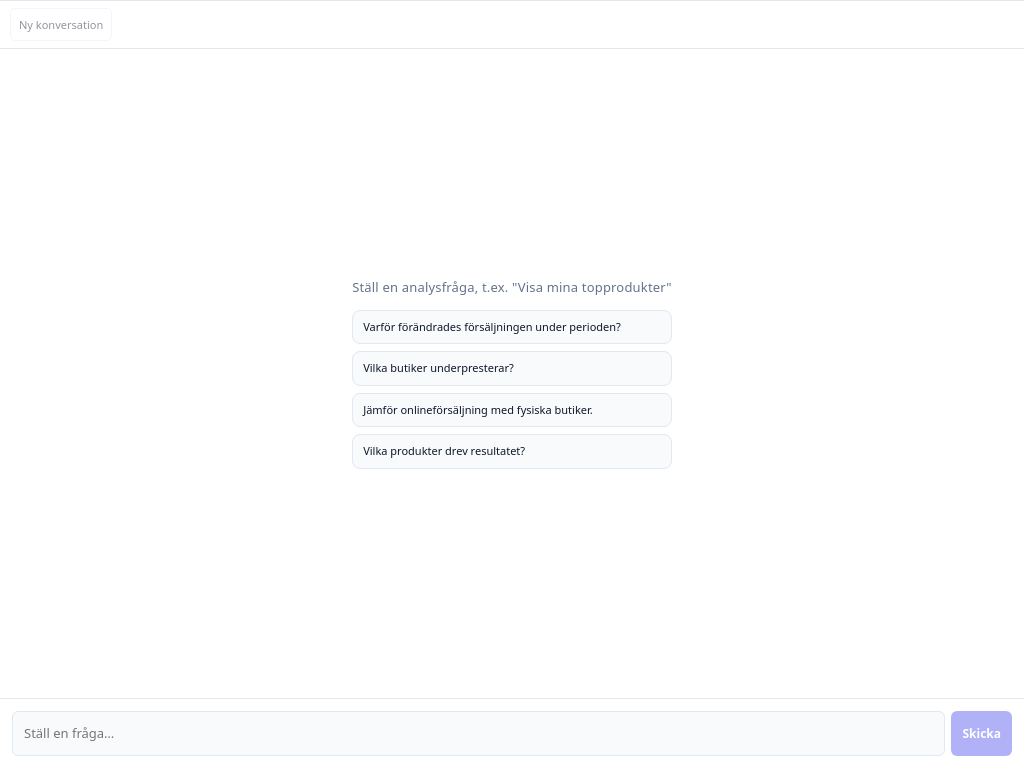
Test case: ChatPanel › uses a suggested question to populate the composer
Click the button "Varför förändrades försäljningen under perioden?" at [512, 327], box [352,310,672,344]
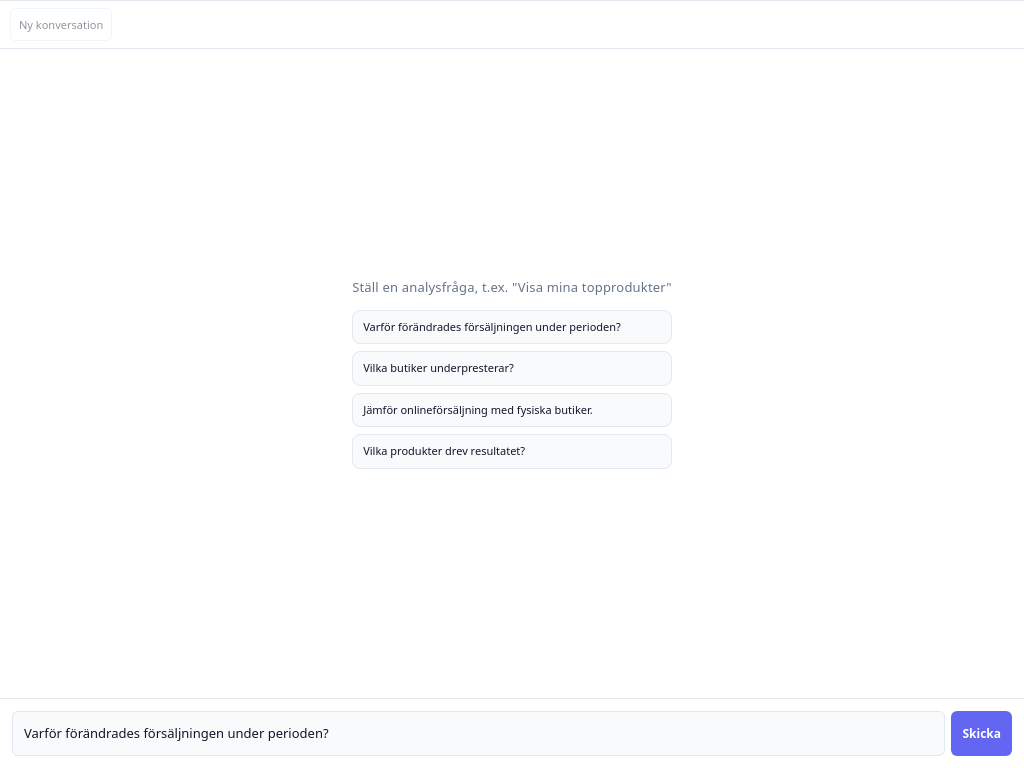
expect the field holds "Varför förändrades försäljningen under perioden?": met, box [12,711,945,756]
